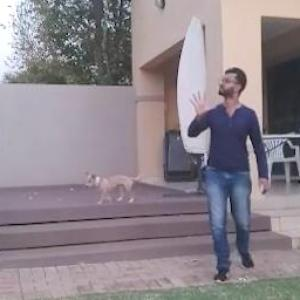follow_hand: (185, 84, 218, 120)
